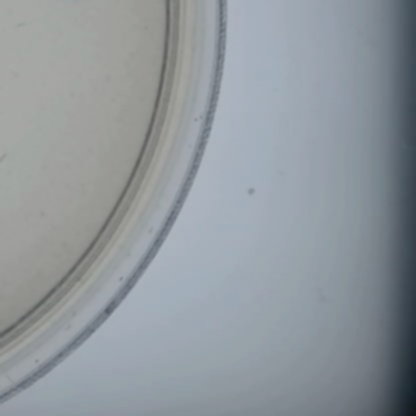worm: (9, 19, 33, 32), (0, 149, 13, 173)
